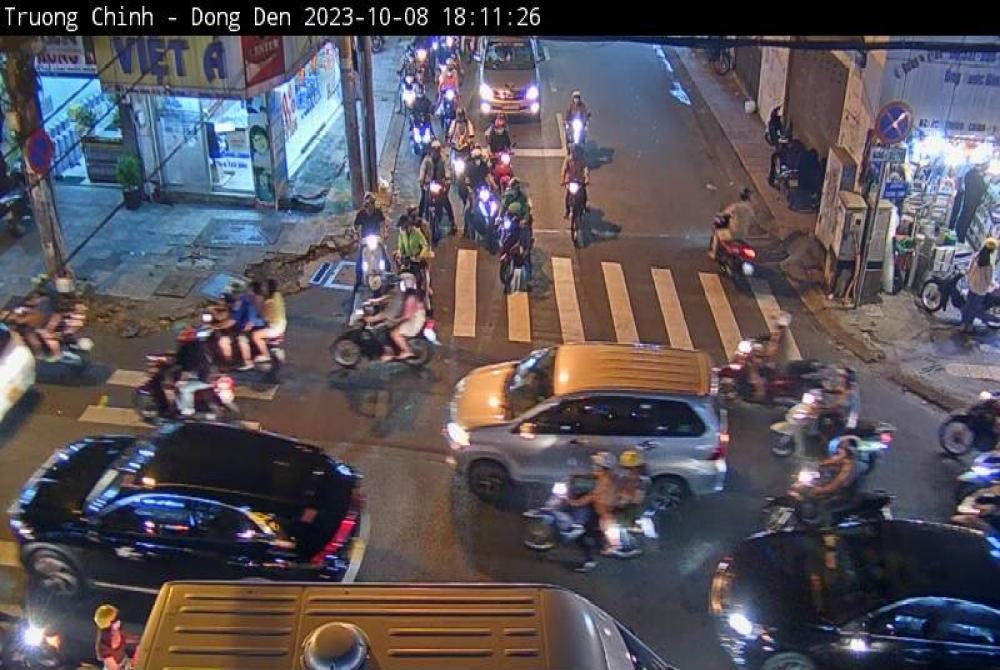car: (9, 412, 374, 581), (114, 572, 675, 670), (700, 486, 996, 670), (444, 324, 734, 509), (466, 35, 550, 137)
motorbike: (321, 298, 449, 385)
